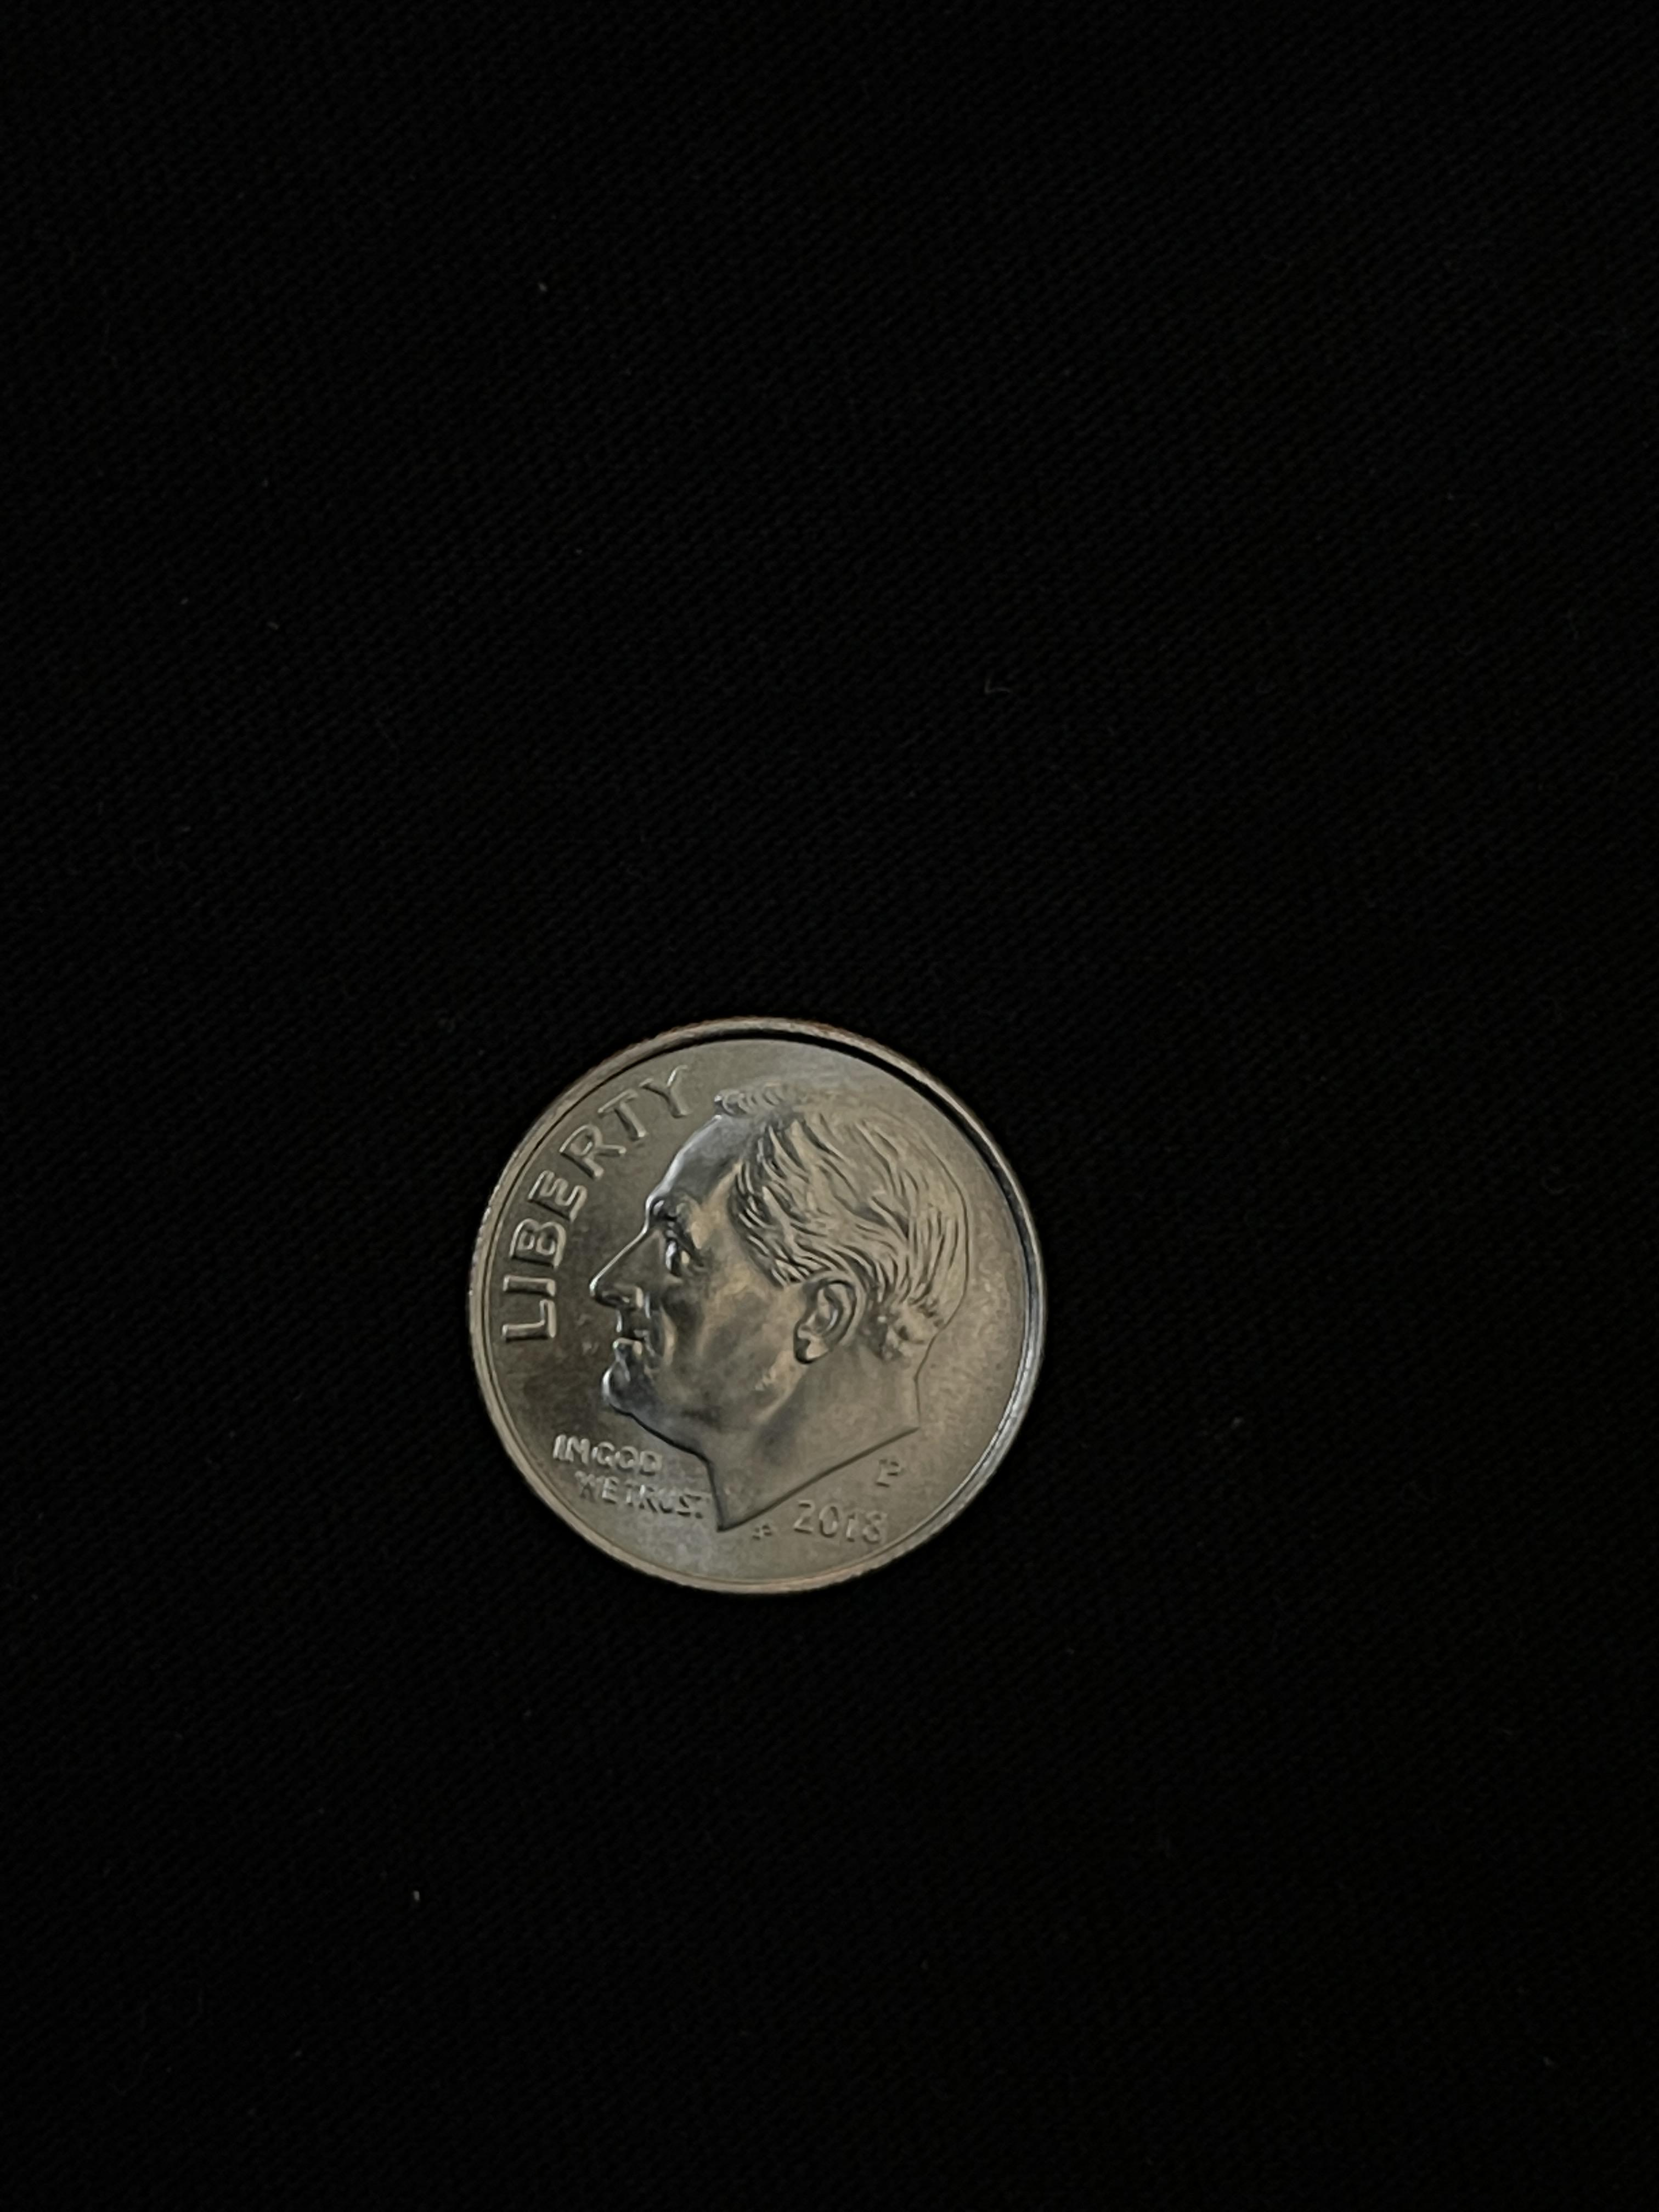Dime: (457, 1014, 1056, 1602)
